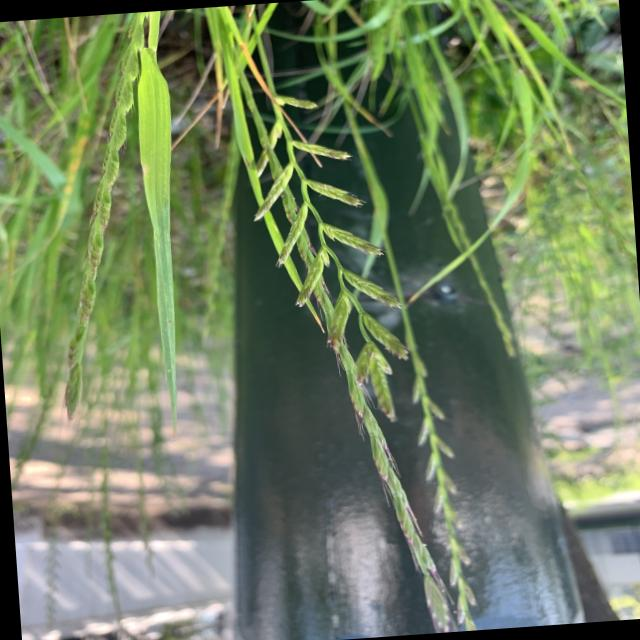Lolium: (203, 0, 483, 640), (31, 20, 170, 413)
